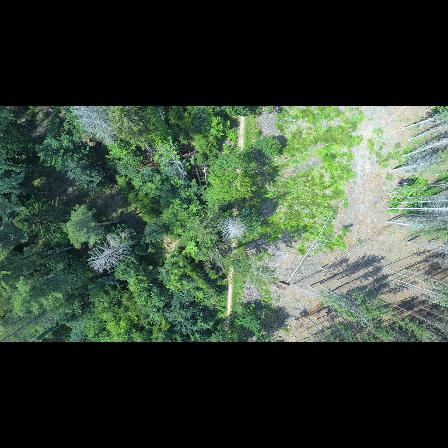Dead: (86, 226, 138, 274), (70, 105, 122, 148), (217, 213, 248, 245)
